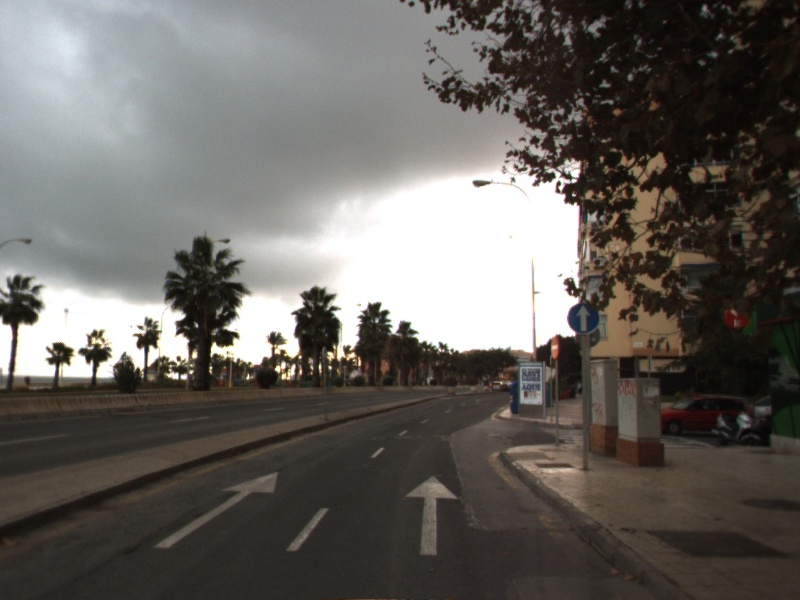STRAIGHT: (152, 470, 280, 550), (403, 474, 460, 556)
